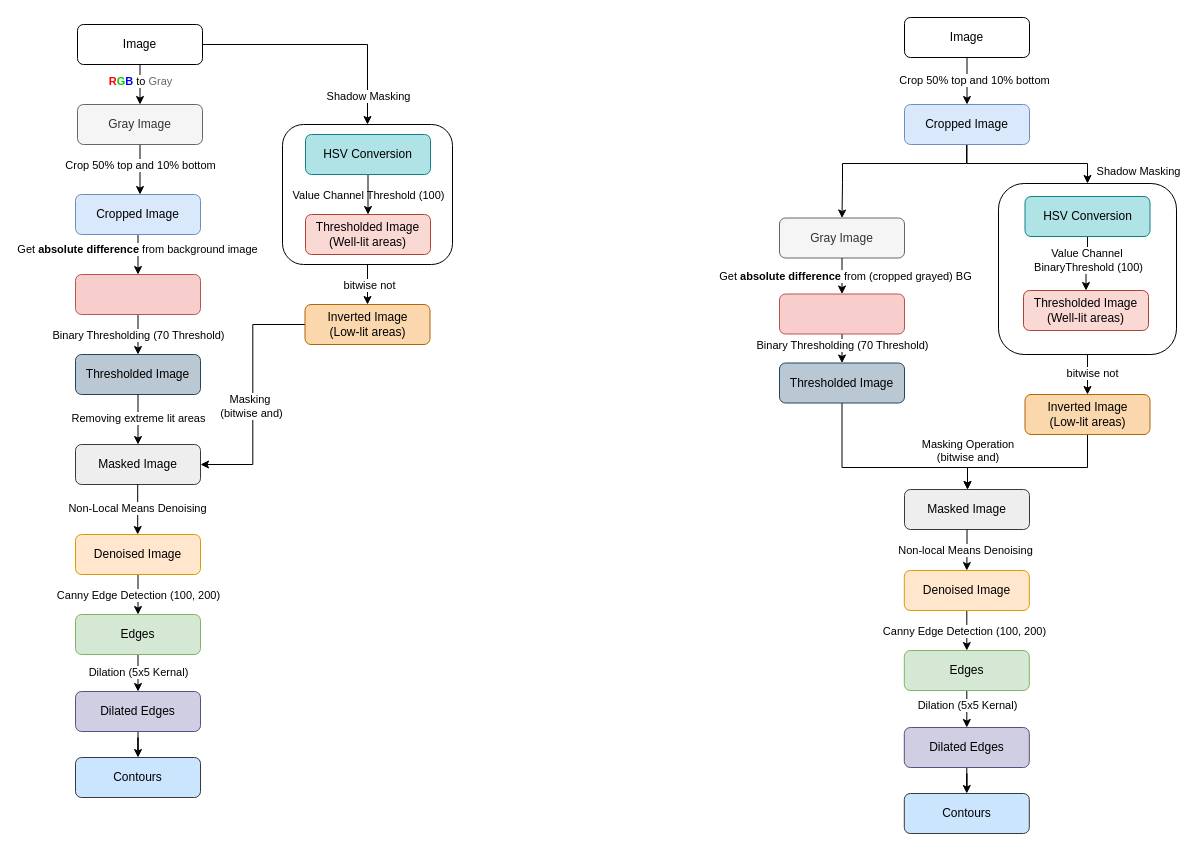
Some shapes in this 1197 by 851 pixel diagram are drawn without their labels. Each missing label, with the box of its shape:
Difference Image: (74, 274, 200, 314)
Differenced Image: (778, 293, 904, 334)
